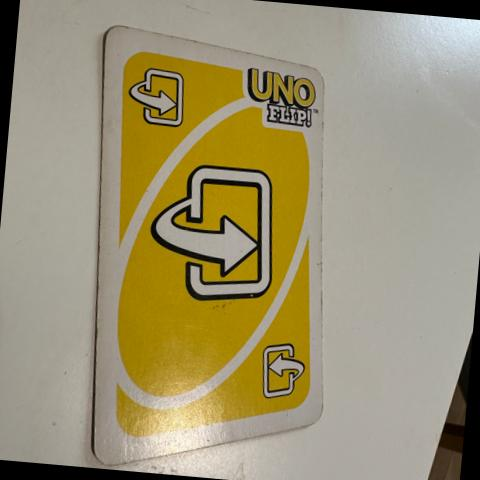lyellowflip-20: (112, 40, 211, 151)
